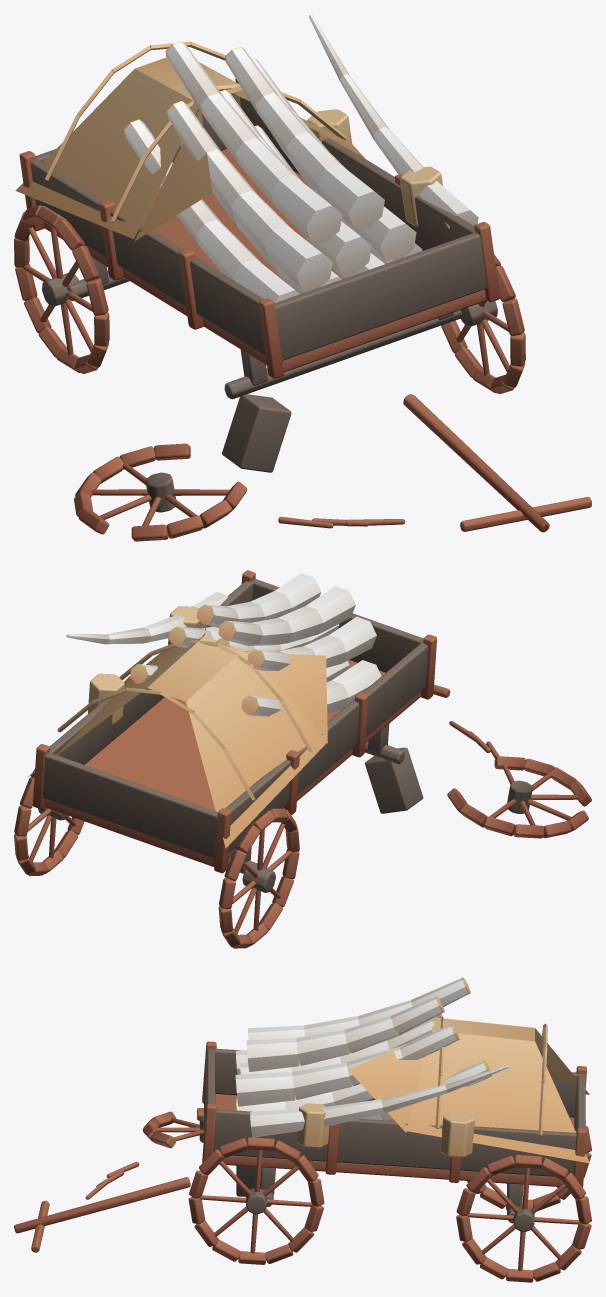
Rendered from poacher_wagon.glb.
3 renders of one model, top to bottom at view 1: azimuth 30°, elevation 25°; view 2: azimuth 150°, elevation 25°; view 3: azimuth 270°, elevation 25°, orthographic. The views are drawn at different scales.
Visible parts, largest first — view 1: poacher_wagon; view 2: poacher_wagon; view 3: poacher_wagon.
Boxes of the visible parts, <box> form: poacher_wagon: <box>14,14,591,541</box>; poacher_wagon: <box>14,570,591,948</box>; poacher_wagon: <box>14,977,591,1282</box>.
Size of the model in its own units: 3.76 by 2.77 by 5.6.
Materials: 1 (1 with a texture image).
